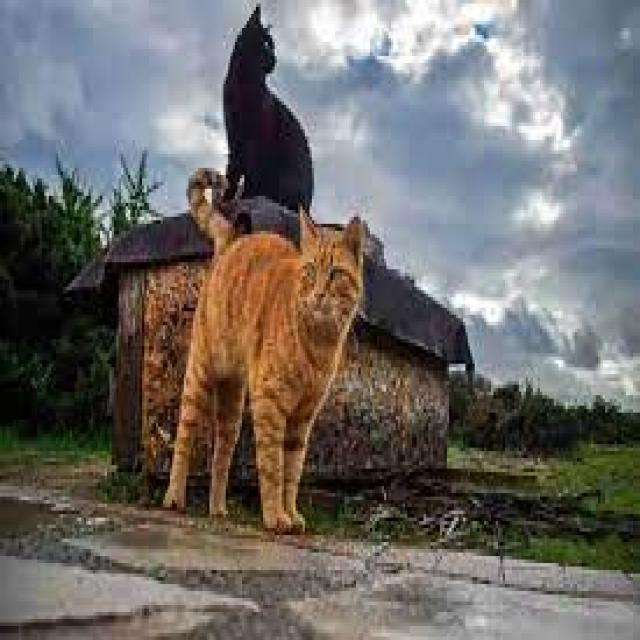cat: (164, 169, 363, 531), (224, 6, 310, 209)
